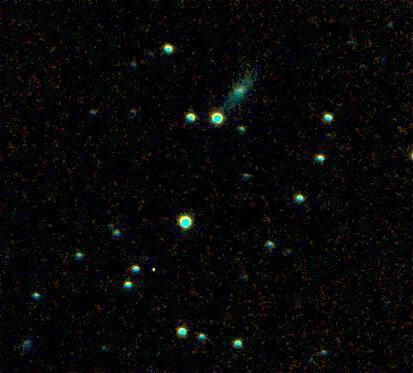star: (139, 256, 169, 286)
